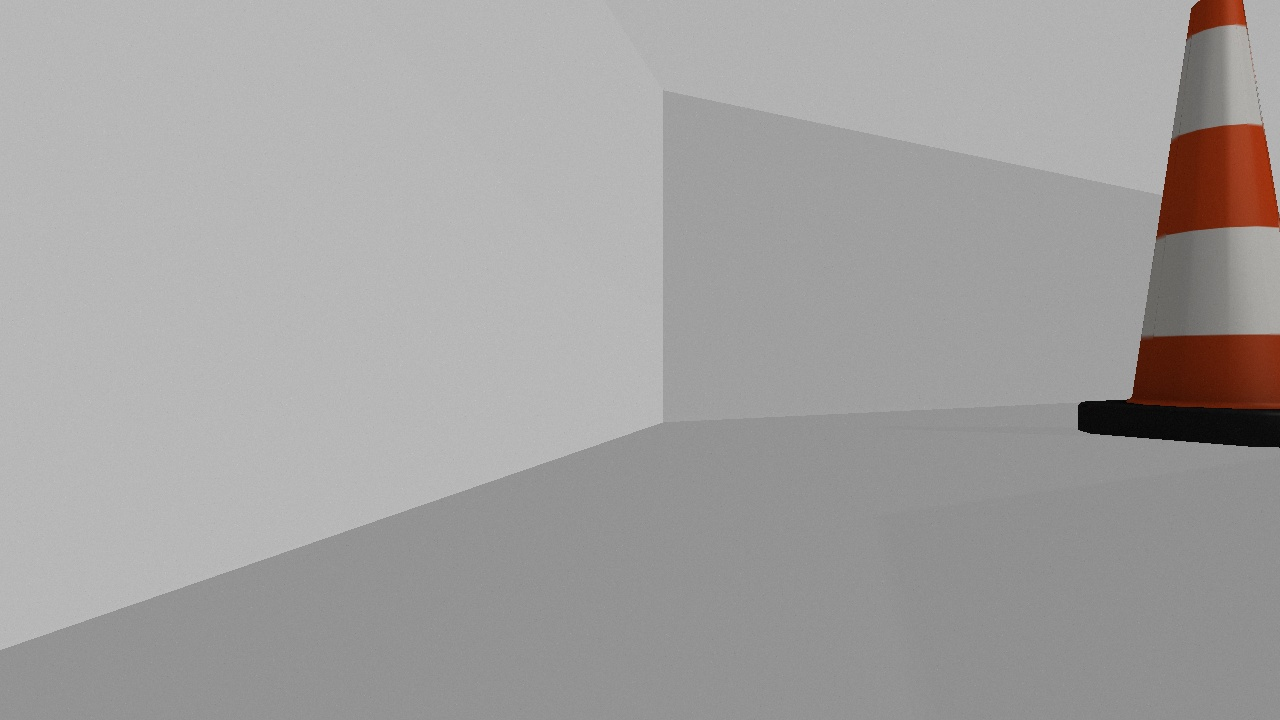barricade: (1078, 1, 1280, 447)
